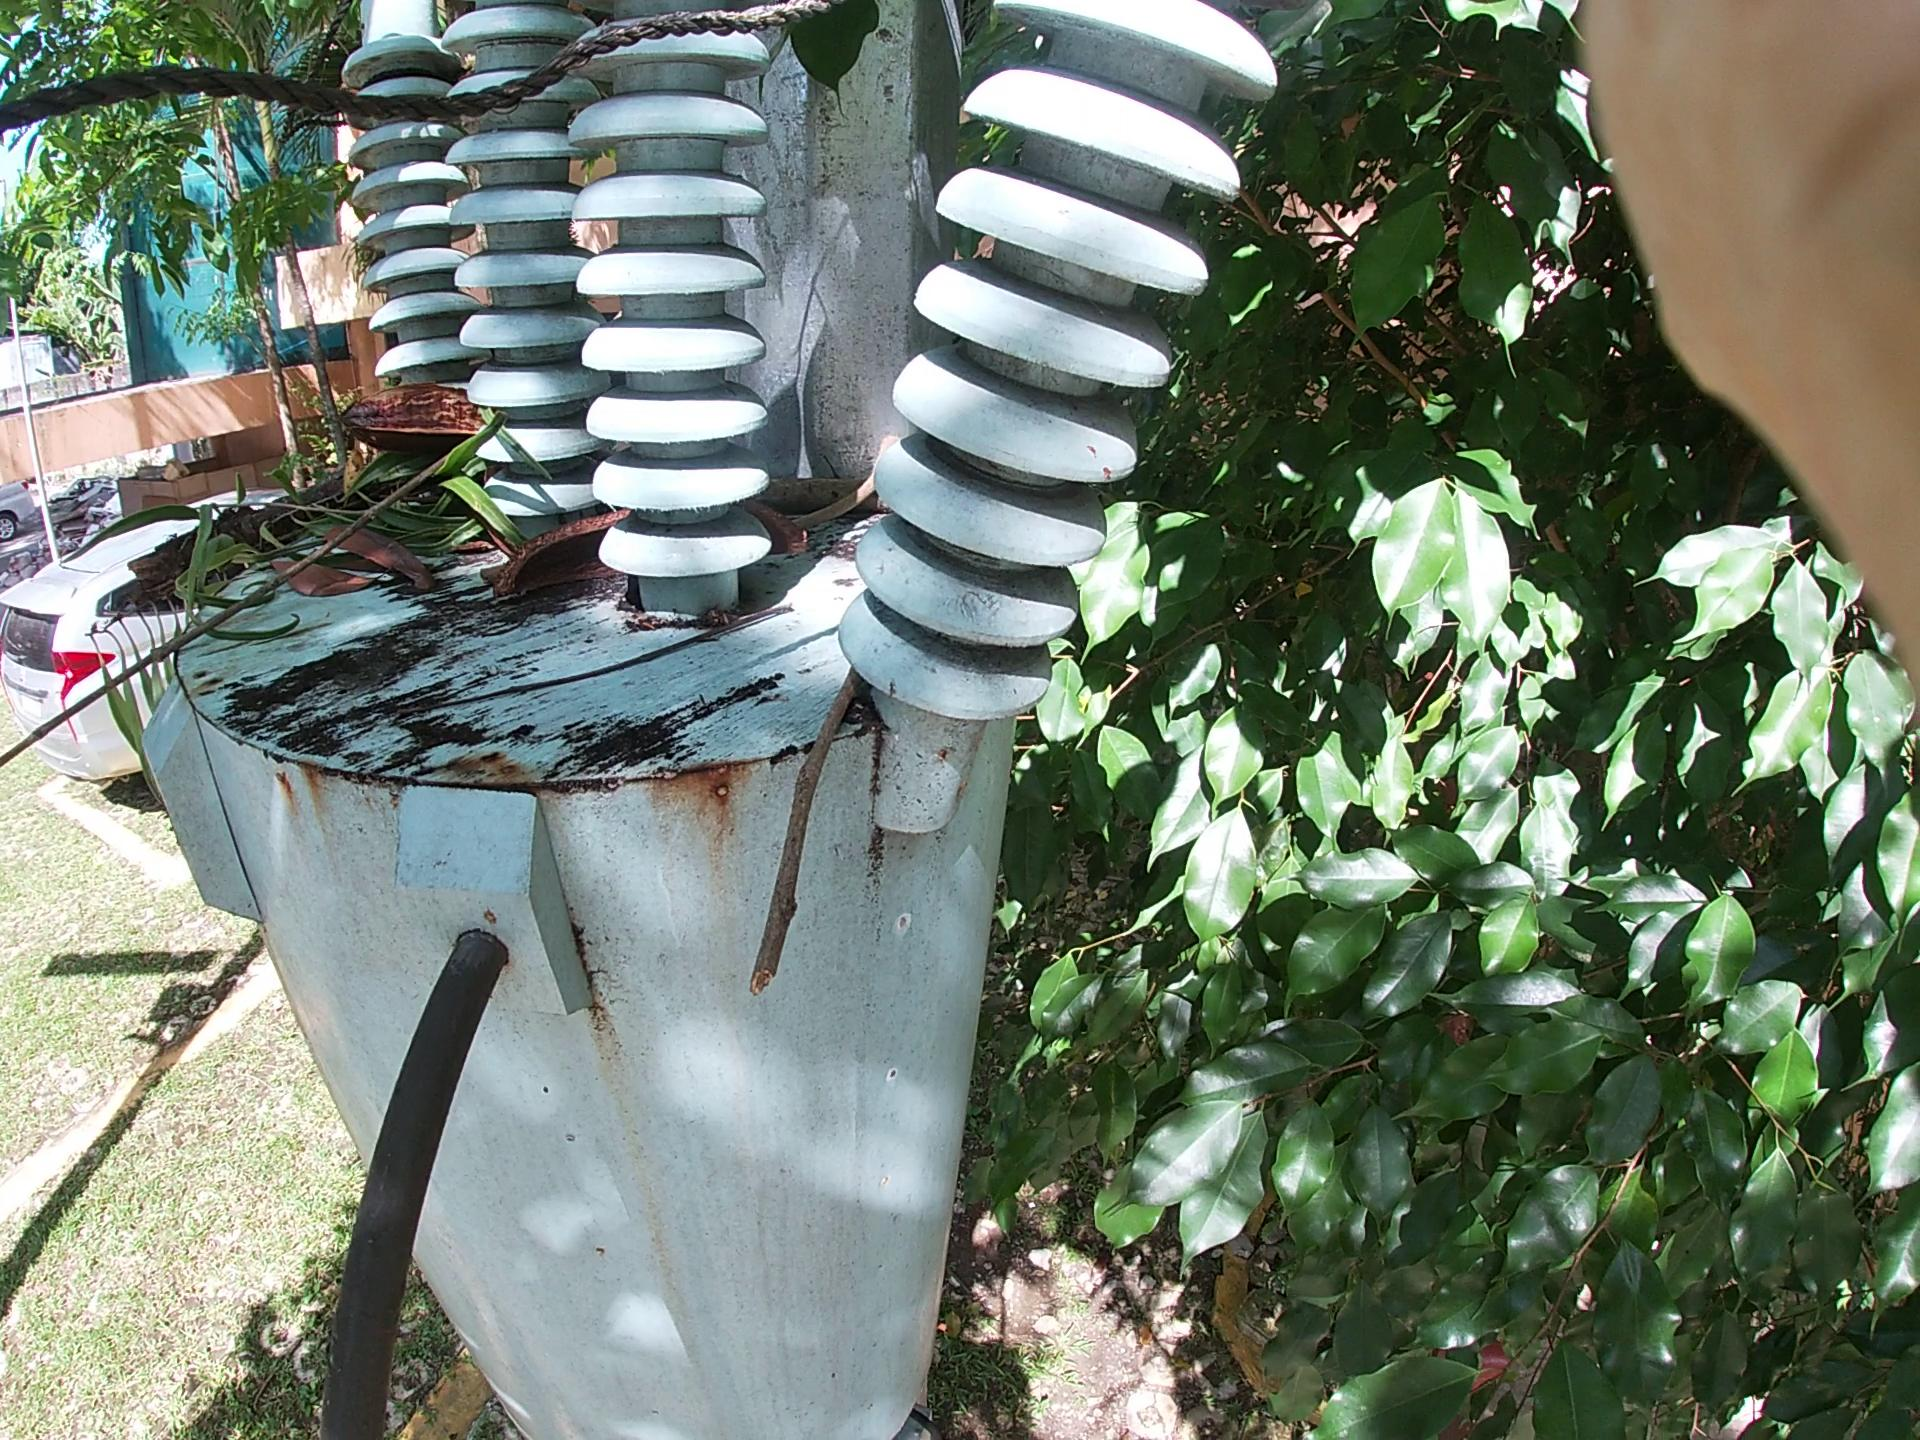branch with leaves: (79, 304, 845, 681)
leaf: (225, 492, 452, 663)
mahogany fruit: (517, 464, 801, 681), (286, 337, 559, 501)
tree branch: (11, 360, 711, 764), (773, 604, 963, 964)
